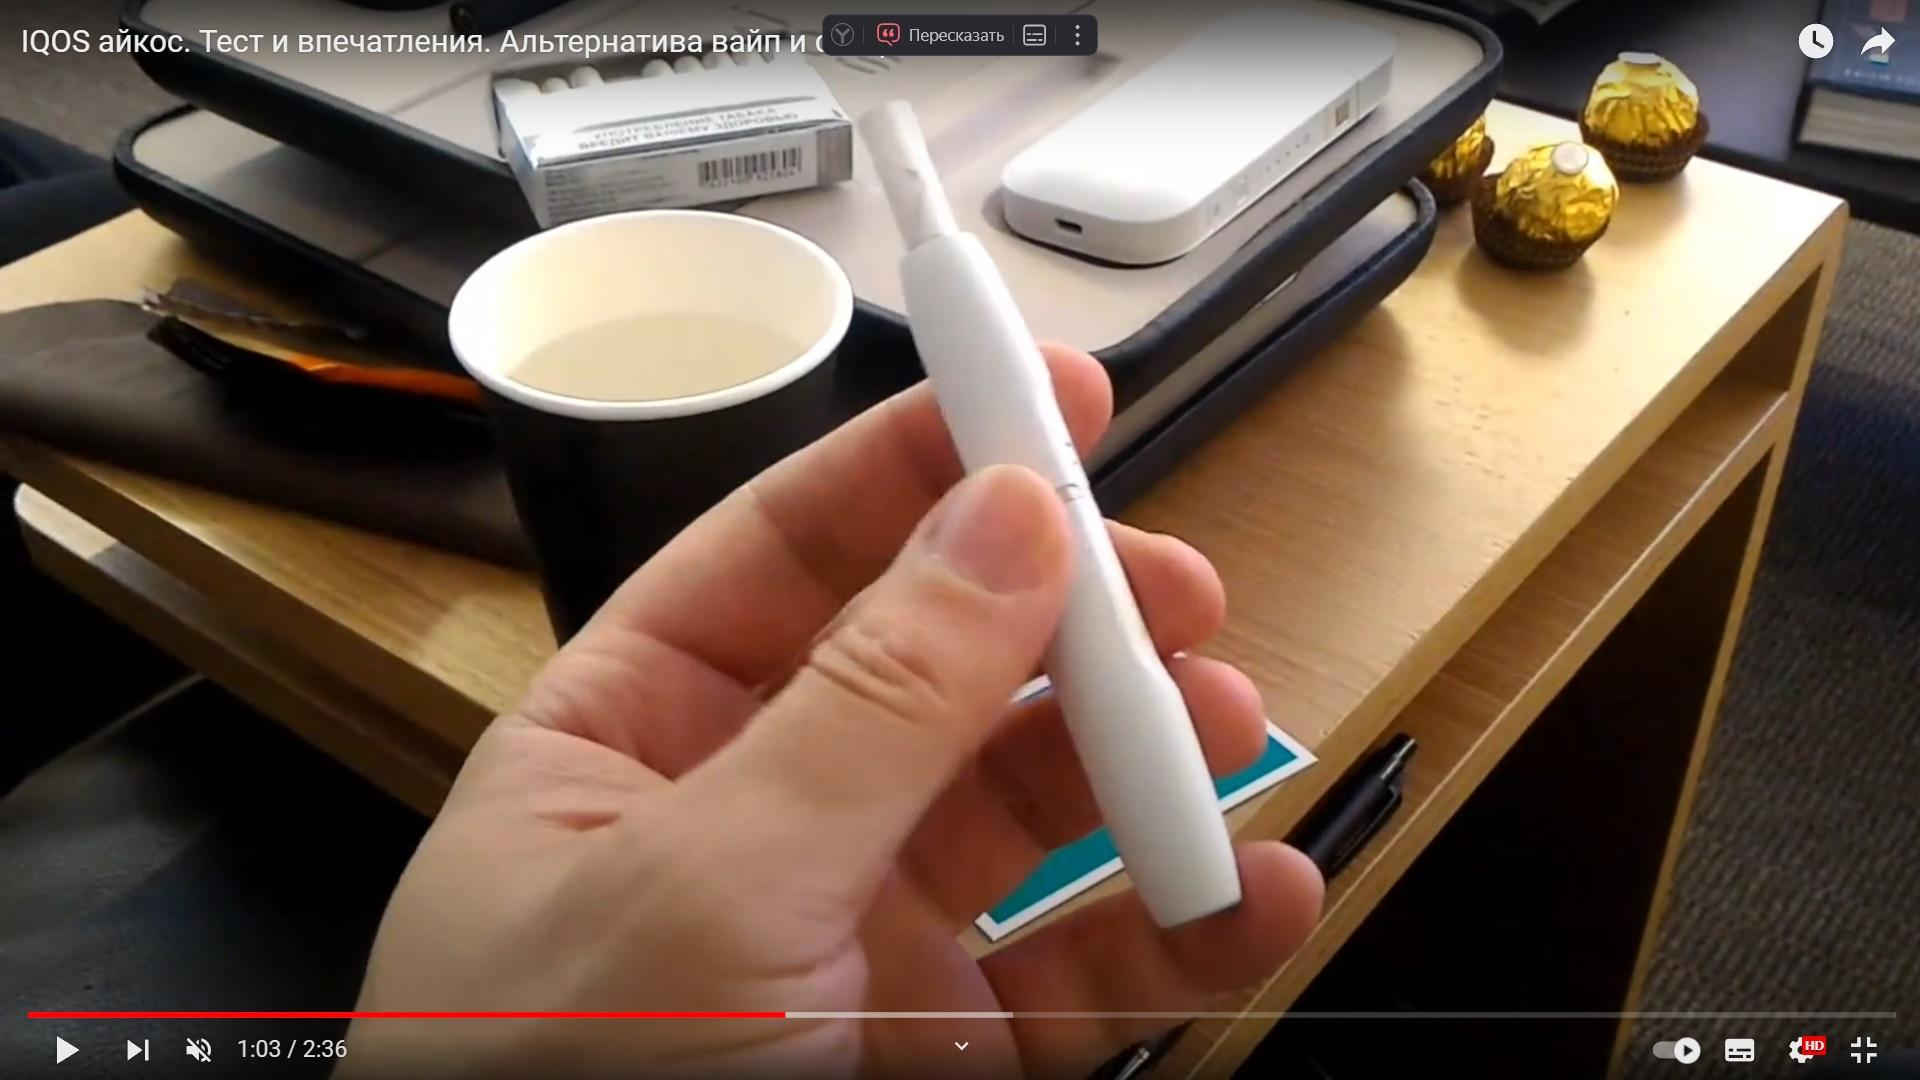iqos: (857, 102, 1240, 928)
